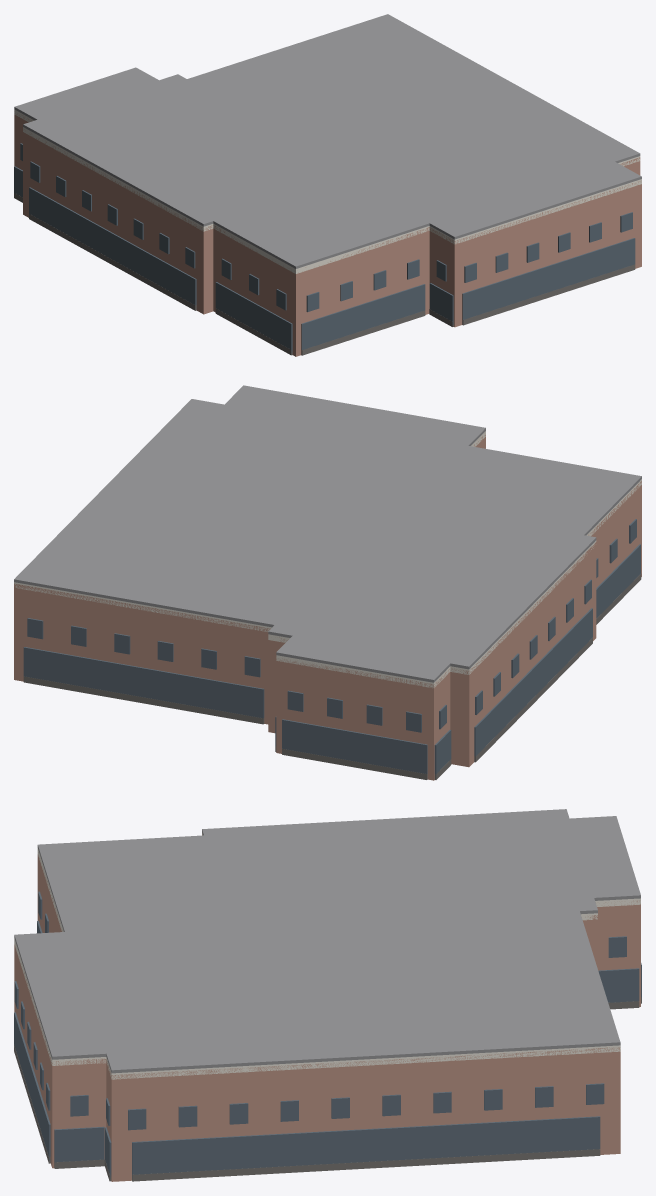
Rendered from s22_gis_247874_820578.glb.
3 views of the same model, one above another, from view 1: azimuth 30°, elevation 25°; view 2: azimuth 150°, elevation 25°; view 3: azimuth 270°, elevation 25° (orthographic). The views are drawn at different scales.
Visible parts, largest first — view 1: roofcap, mass, store_7, store_2, cornice, store_5, store_4, bulk_7, bulk_2, bulk_5, store_6; view 2: roofcap, mass, store_11, store_15, cornice, store_2, bulk_11, store_4, bulk_15, bulk_2; view 3: roofcap, mass, store_10, cornice, bulk_10, store_8, store_7, store_14.
Boxes of the visible parts, x1,y1,x2,y2 form: roofcap: [14, 14, 641, 268]; mass: [14, 111, 641, 356]; store_7: [462, 238, 635, 322]; store_2: [29, 187, 196, 305]; cornice: [14, 109, 641, 273]; store_5: [301, 284, 425, 349]; store_4: [215, 282, 292, 352]; bulk_7: [462, 264, 635, 325]; bulk_2: [29, 214, 196, 310]; bulk_5: [301, 310, 425, 355]; store_6: [429, 283, 453, 324]; roofcap: [14, 385, 641, 682]; mass: [14, 435, 641, 780]; store_11: [23, 647, 264, 718]; store_15: [282, 719, 427, 775]; cornice: [14, 431, 641, 688]; store_2: [474, 608, 592, 756]; bulk_11: [23, 676, 264, 724]; store_4: [596, 544, 640, 618]; bulk_15: [282, 748, 427, 779]; bulk_2: [474, 637, 592, 762]; roofcap: [14, 809, 640, 1073]; mass: [14, 854, 640, 1181]; store_10: [132, 1116, 600, 1178]; cornice: [14, 832, 640, 1079]; bulk_10: [132, 1149, 600, 1181]; store_8: [54, 1126, 104, 1165]; store_7: [14, 1012, 50, 1160]; store_14: [598, 968, 639, 1002].
Bounding box in the file's own units: 41.92 × 8.35 × 42.59.
